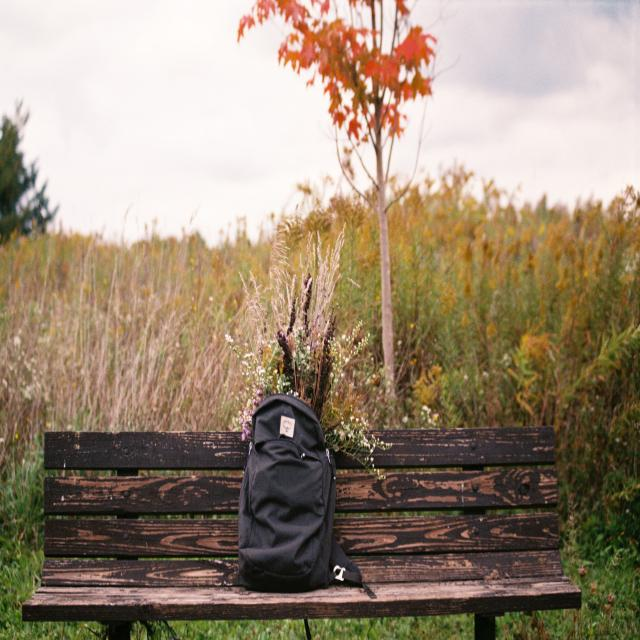backpack: (240, 399, 356, 590)
